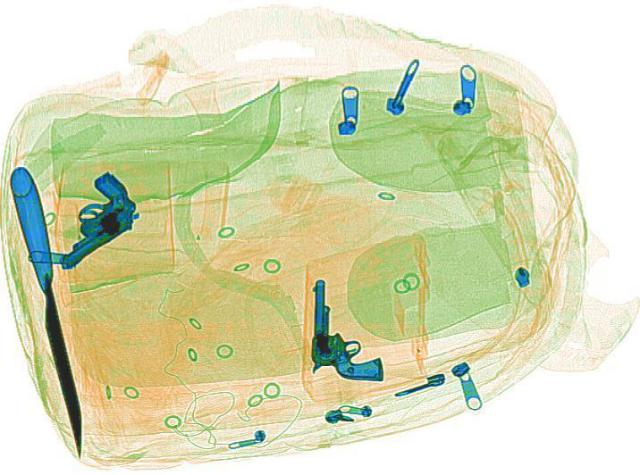Gun: (14, 167, 162, 270), (303, 277, 389, 378)
Knife: (2, 164, 98, 457)
